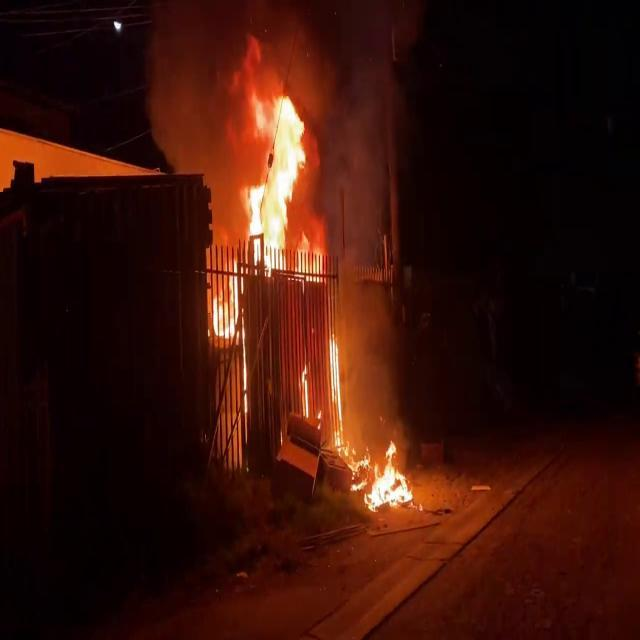Fire: (233, 68, 315, 283), (363, 436, 415, 513)
Smoke: (136, 2, 259, 202)
